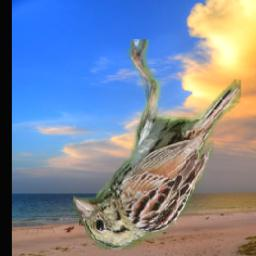Sparrow: (73, 39, 241, 249)
